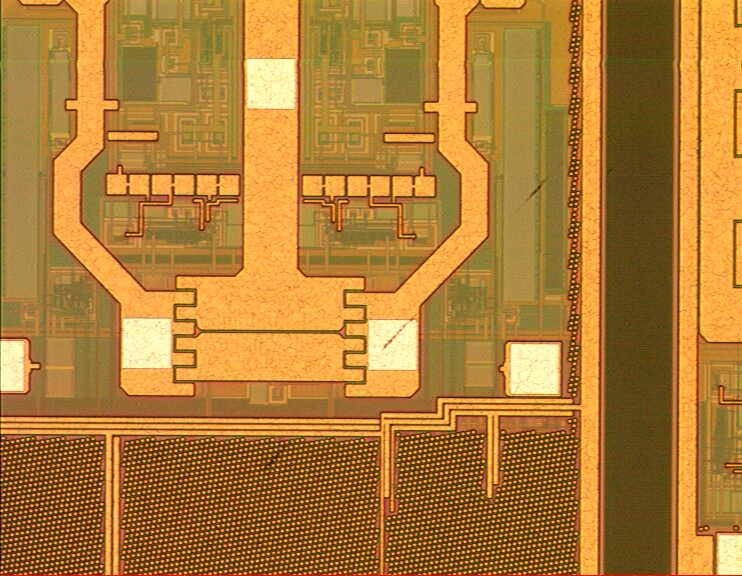SCRATCH: (249, 127, 615, 478)
